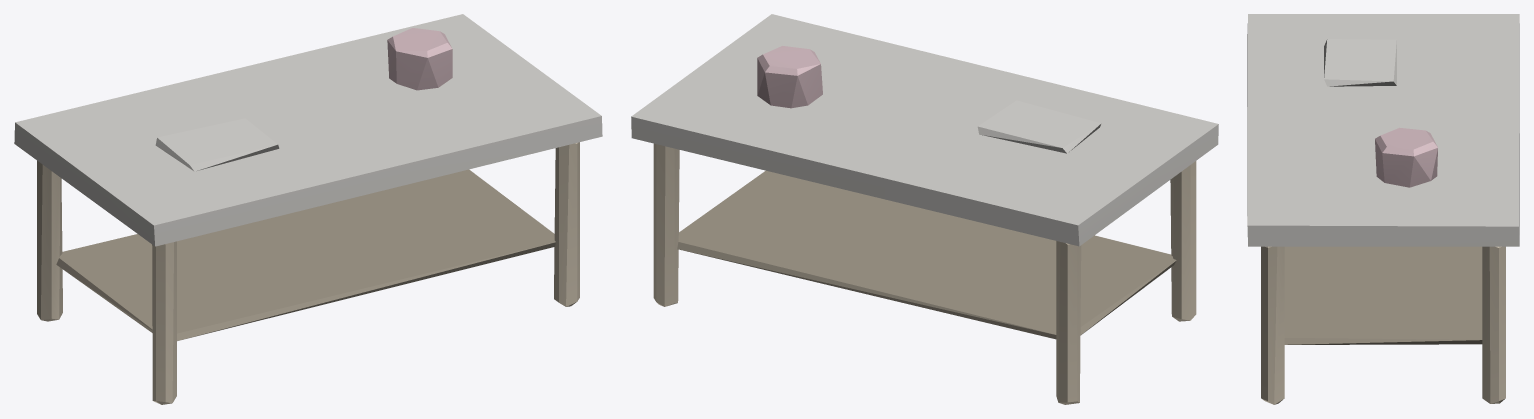
Rendered from furn_coffee_table__white_low.glb.
3 views of the same model, side by side, from view 1: azimuth 30°, elevation 25°; view 2: azimuth 150°, elevation 25°; view 3: azimuth 270°, elevation 25° (orthographic). The views are drawn at different scales.
Size of the model in its own units: 1.09 by 0.5402 by 0.5904.
